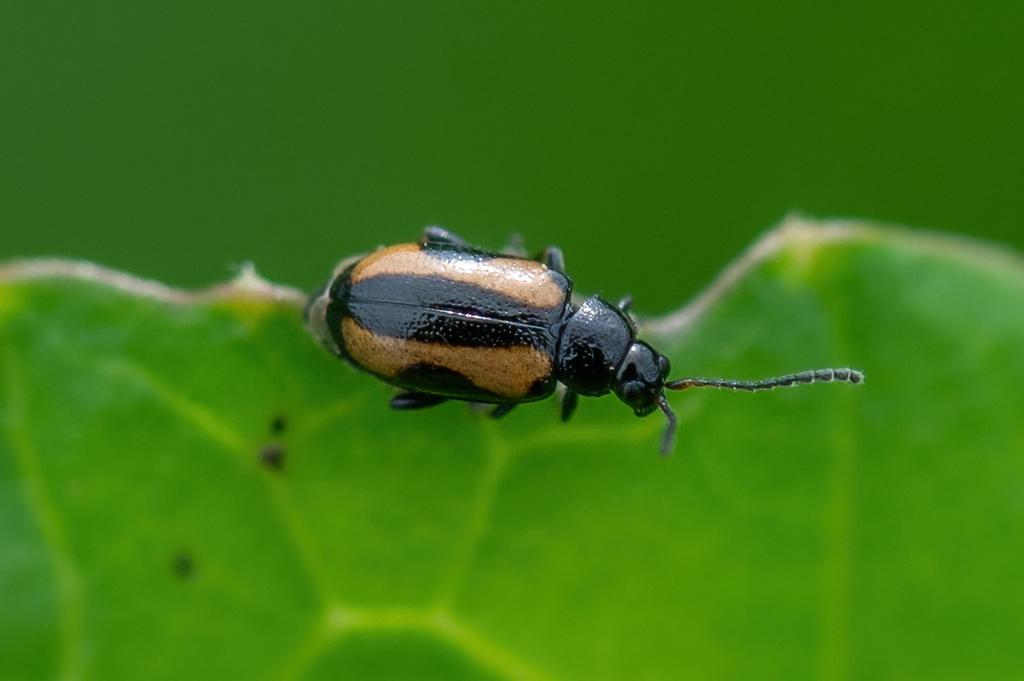flea_beetle: (275, 177, 893, 521)
